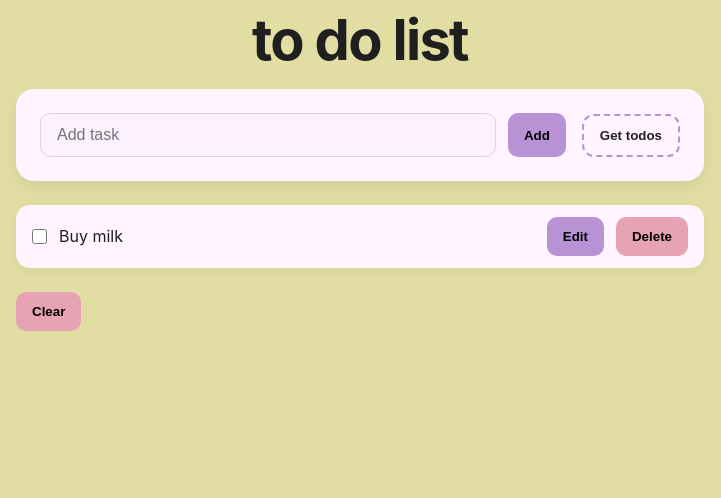
Test case: App component › clears all tasks when Clear button is clicked
The image size is (721, 498).
Type "Task 1" into the field. click: (268, 135)
box: [40,113,496,157]
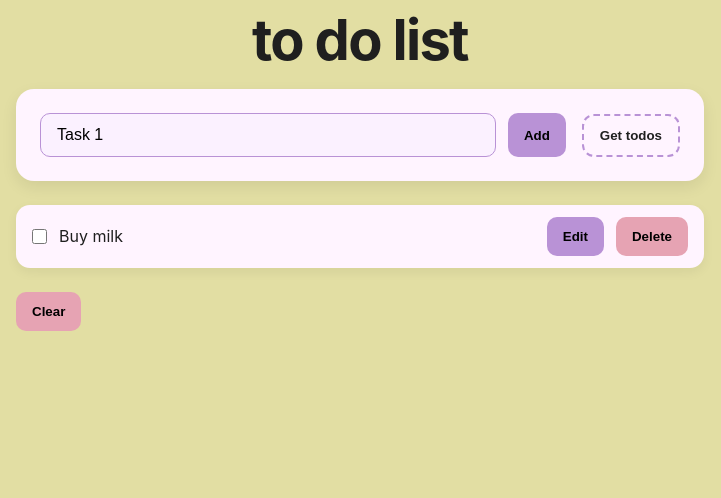
Click the button "Add". click: (537, 135)
box: [508,113,566,157]
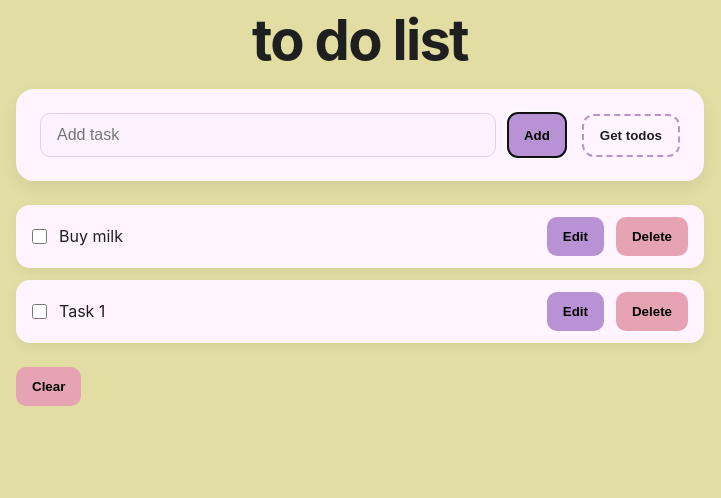
Type "Task 2" into the field. click: (268, 135)
box: [40,113,496,157]
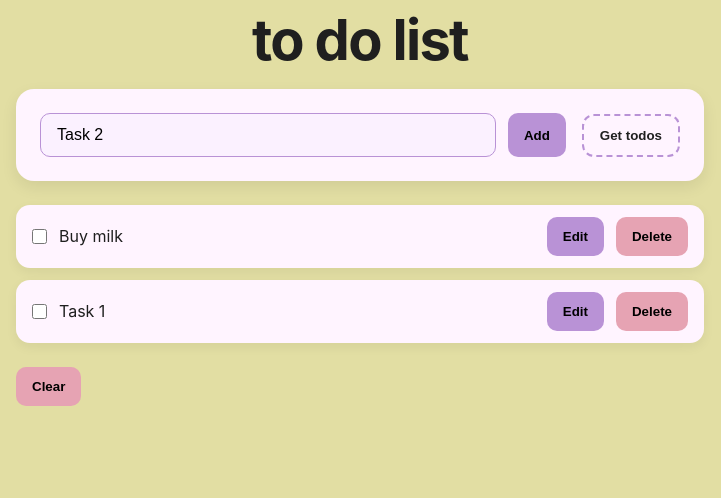
Click the button "Add". click: (537, 135)
box: [508,113,566,157]
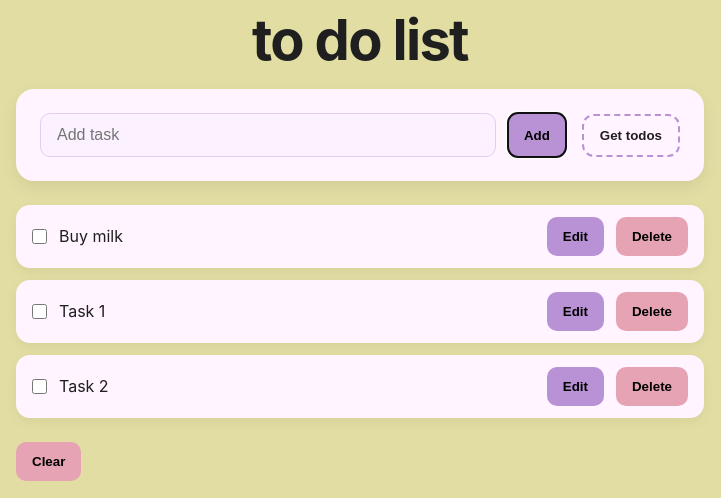
Result: the text "Task 1" is shown at [59,301,105,321]
Result: the text "Task 2" is shown at [59,376,109,396]
Click the button "Clear". click: (49, 462)
box: [16,442,81,481]
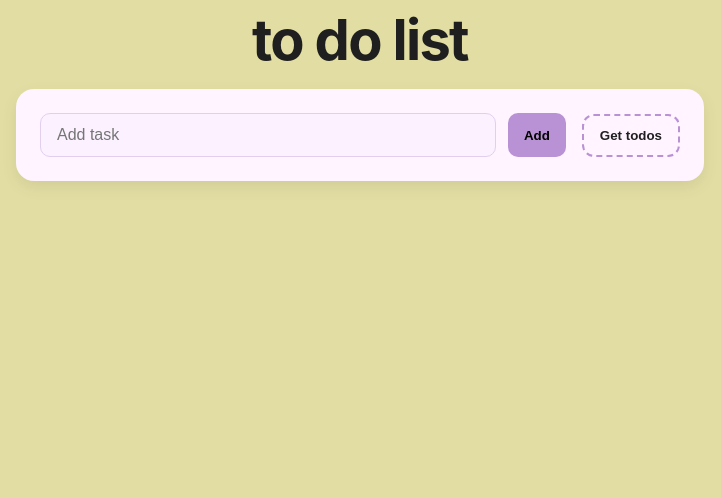
Result: the text "Task 1" is gone
Result: the text "Task 2" is gone
